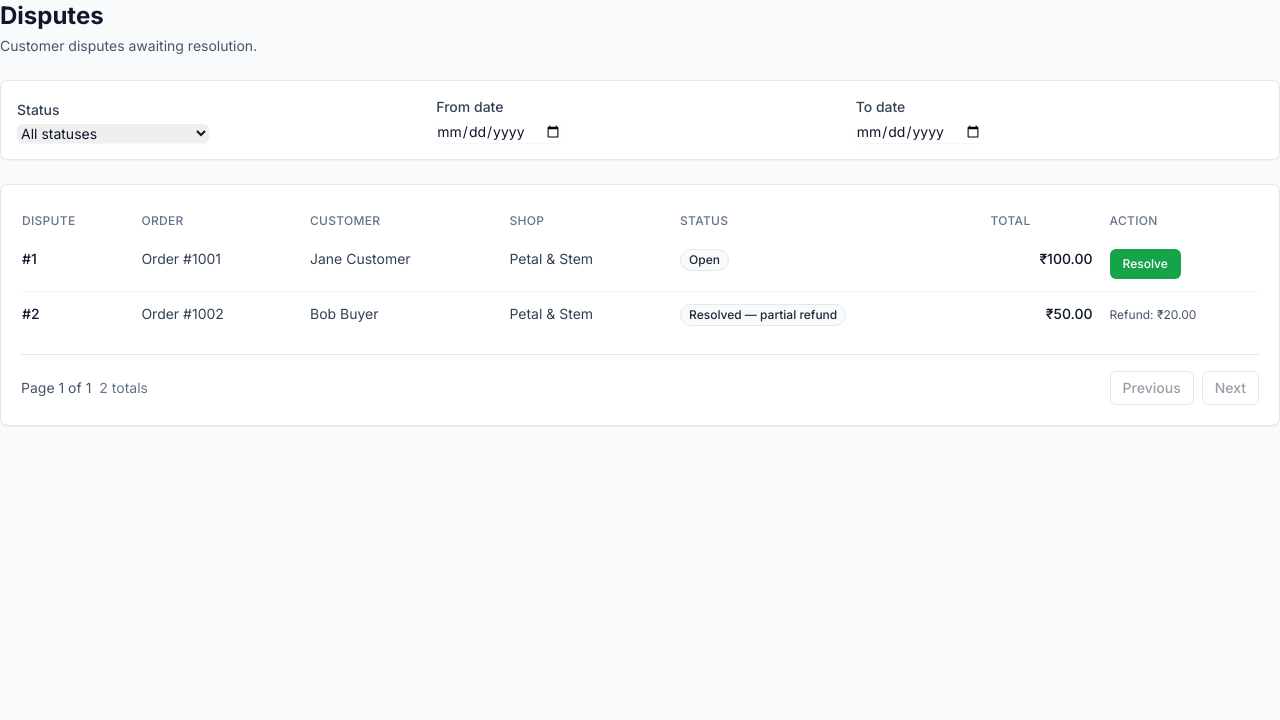
Test: AdminDisputesPage › requires a resolution note
The width and height of the screenshot is (1280, 720).
Click the button "Resolve" at (1145, 264), box [1110,249,1181,279]
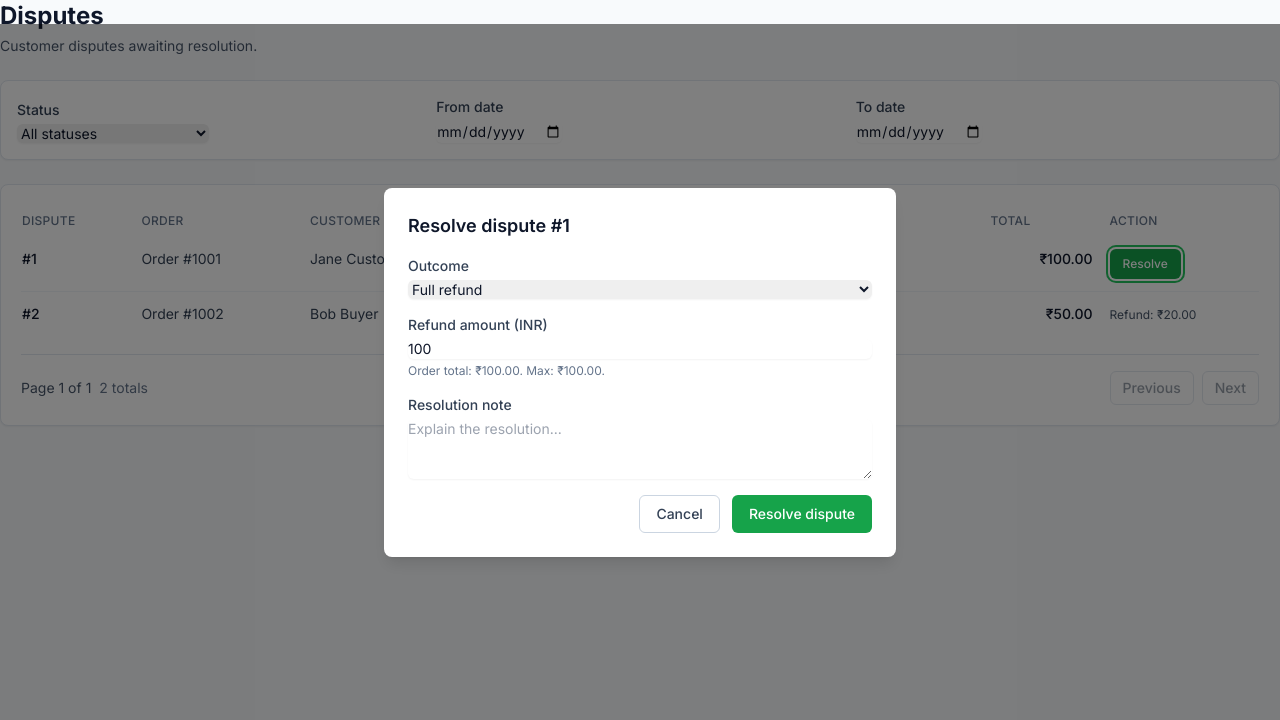
Expected: the dropdown labelled "Outcome" is shown
Select "Rejected" in the dropdown labelled "Outcome" at (640, 289), box [408,280,872,298]
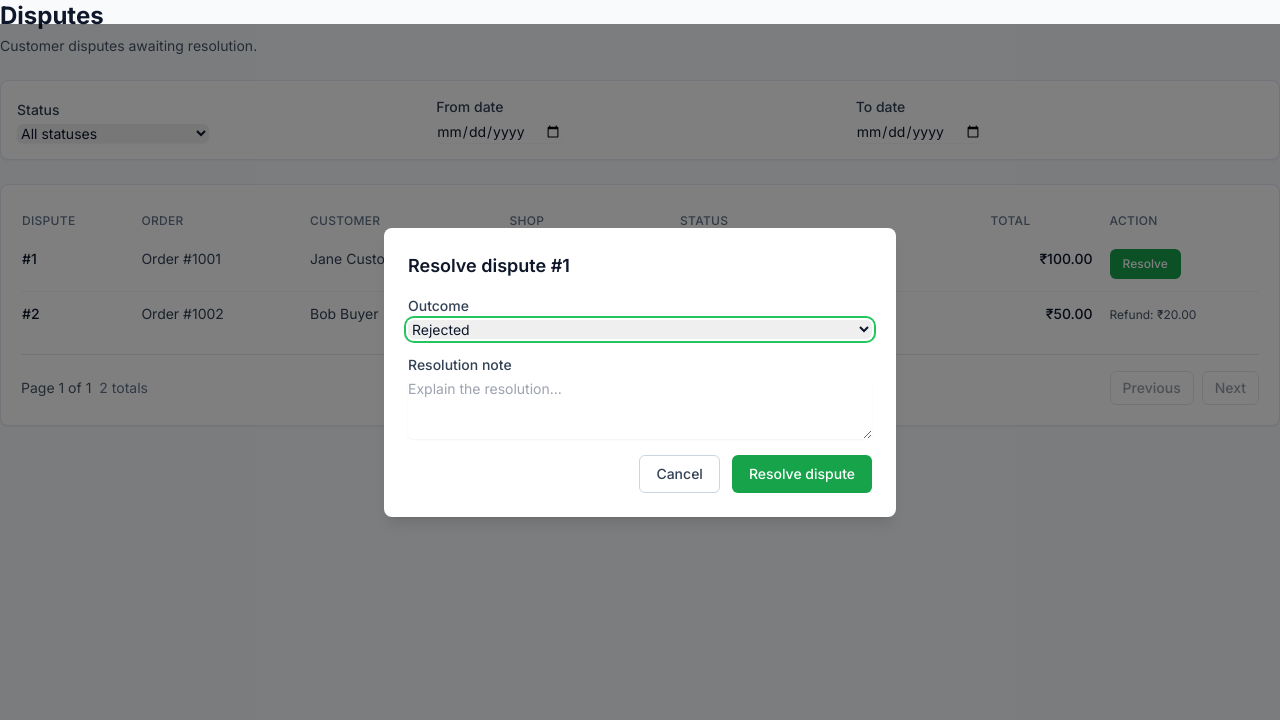
Click the button "Resolve dispute" at (802, 474), box [732,454,872,492]
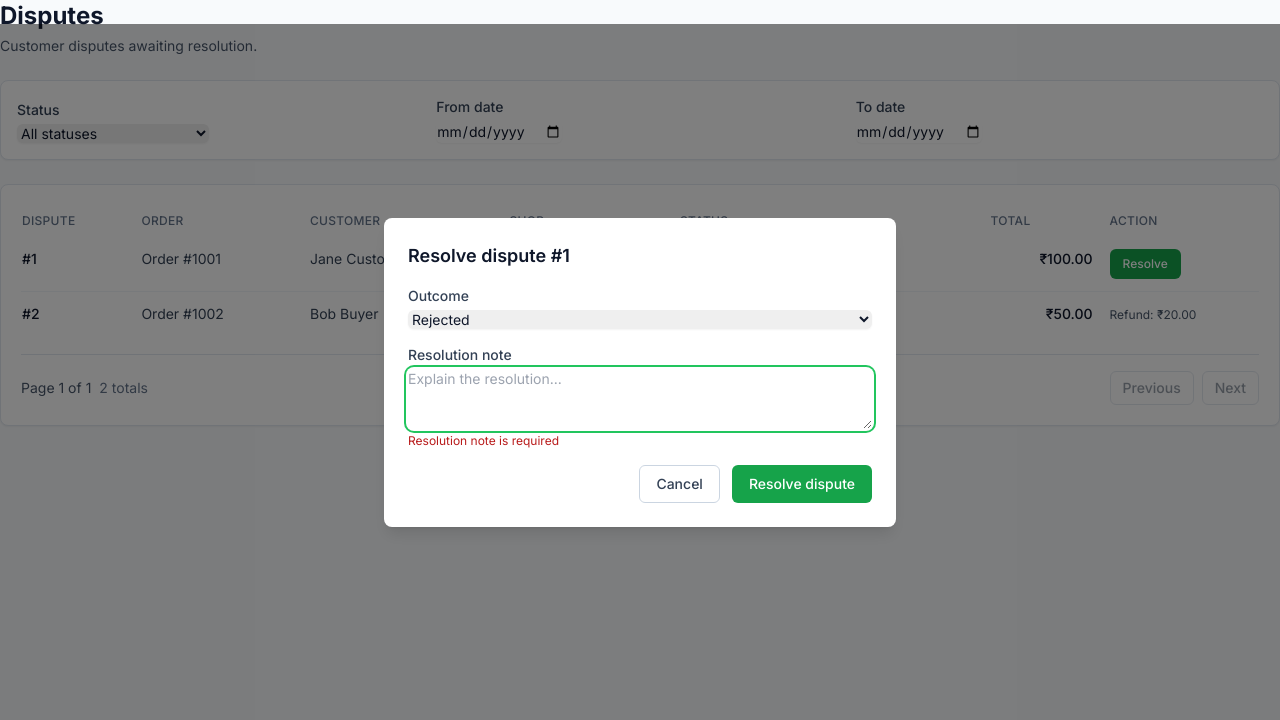
Expected: the text "Resolution note is required" is shown, [408,432,559,448]
